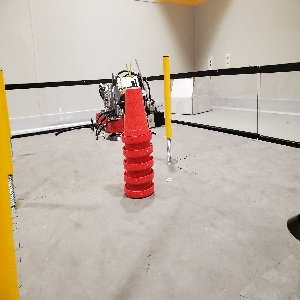Red_5: (120, 87, 154, 198)
